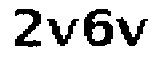2: (10, 5, 49, 49)
6: (81, 6, 115, 48)
v: (45, 14, 83, 46), (116, 15, 150, 49)
